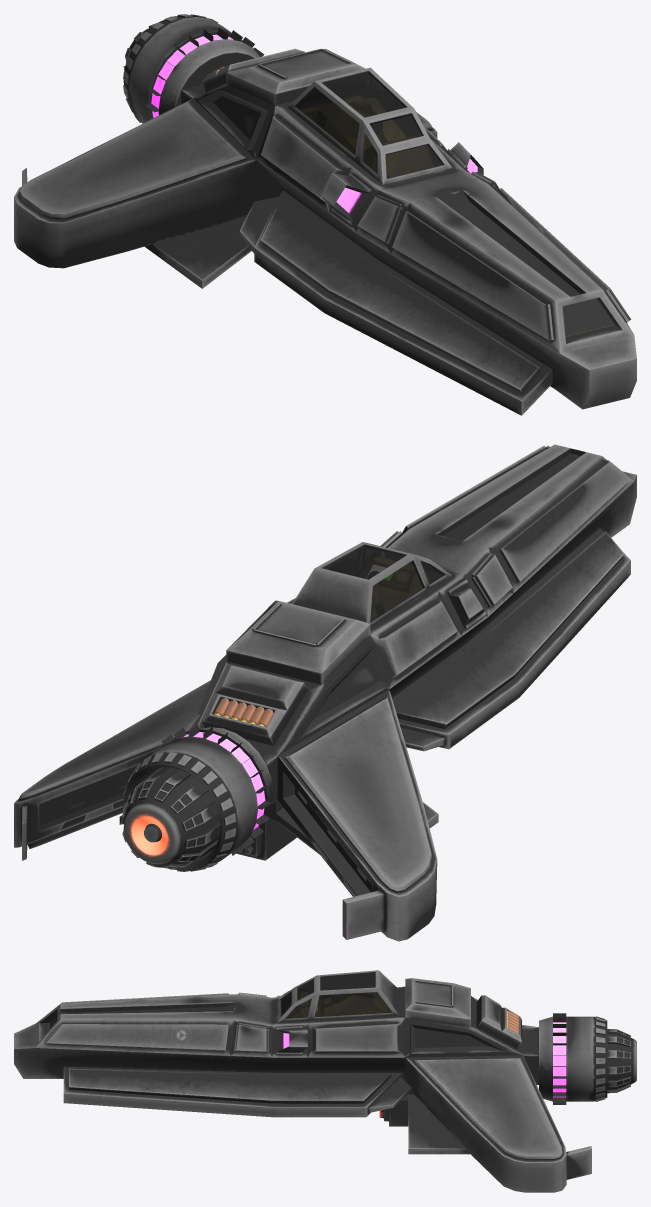
Rendered from enemy-4.glb.
3 renders of one model, top to bottom at view 1: azimuth 30°, elevation 25°; view 2: azimuth 150°, elevation 25°; view 3: azimuth 270°, elevation 25°, orthographic. The views are drawn at different scales.
Parts seen in each view (by area): view 1: Cube.001, Cube.001_RPanel.001, Cylinder.002, Cube.001_RPanel.003_RExtr.001, Cube.005, Cube.001_RPanel.003_RExtr, Cube.003, Cube.001_RPanel.003; view 2: Cube.001, Cube.001_RPanel.001, Cylinder.002, Cylinder.003, Cube.001_RPanel.003_RExtr.001, Cube.003, Cube.005, Cube.002, Cylinder.004, Cube.001_RPanel.003_RExtr; view 3: Cube.001, Cube.001_RPanel.003, Cylinder.002, Cube.001_RPanel.003_RExtr, Cylinder.003, Cube.005, Cube.003, Cube.002, Cube.001_RPanel.003_RExtr.001.
Part boxes in pixels (bbox=[...]): Cube.001: bbox=[14, 49, 636, 415]; Cube.001_RPanel.001: bbox=[193, 83, 559, 352]; Cylinder.002: bbox=[123, 14, 264, 123]; Cube.001_RPanel.003_RExtr.001: bbox=[331, 173, 553, 340]; Cube.005: bbox=[301, 95, 433, 178]; Cube.001_RPanel.003_RExtr: bbox=[447, 149, 631, 322]; Cube.003: bbox=[202, 48, 304, 92]; Cube.001_RPanel.003: bbox=[424, 126, 633, 333]; Cube.001: bbox=[14, 444, 636, 941]; Cube.001_RPanel.001: bbox=[278, 456, 633, 755]; Cylinder.002: bbox=[122, 725, 272, 871]; Cylinder.003: bbox=[121, 767, 220, 868]; Cube.001_RPanel.003_RExtr.001: bbox=[447, 460, 630, 628]; Cube.003: bbox=[202, 664, 307, 745]; Cube.005: bbox=[360, 556, 430, 620]; Cube.002: bbox=[236, 819, 296, 860]; Cylinder.004: bbox=[214, 698, 273, 726]; Cube.001_RPanel.003_RExtr: bbox=[380, 445, 549, 547]; Cube.001: bbox=[14, 970, 591, 1192]; Cube.001_RPanel.003: bbox=[36, 1018, 522, 1057]; Cylinder.002: bbox=[539, 1013, 607, 1104]; Cube.001_RPanel.003_RExtr: bbox=[45, 1023, 302, 1054]; Cylinder.003: bbox=[607, 1029, 636, 1093]; Cube.005: bbox=[286, 991, 391, 1017]; Cube.003: bbox=[476, 995, 521, 1048]; Cube.002: bbox=[379, 1094, 408, 1126]; Cube.001_RPanel.003_RExtr.001: bbox=[53, 992, 282, 1009].
Bounding box in the file's own units: 9.24 × 5.01 × 18.93.
Materials: 2 (2 with a texture image).
